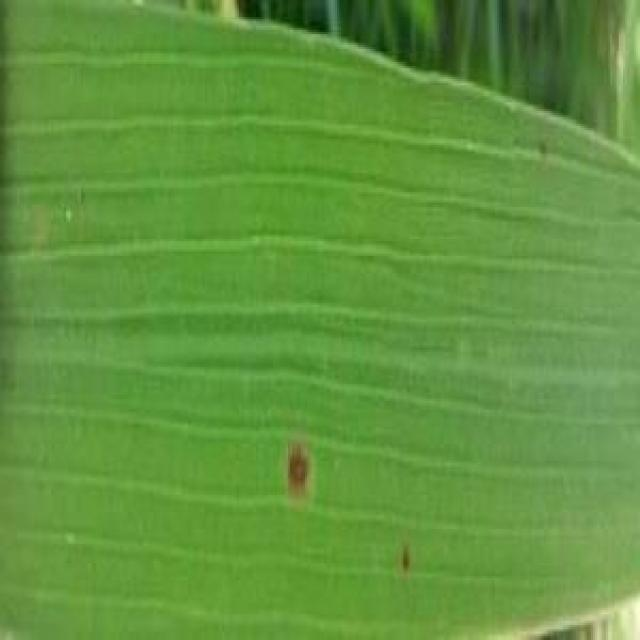brownspots: (266, 435, 326, 499), (392, 542, 420, 574)
